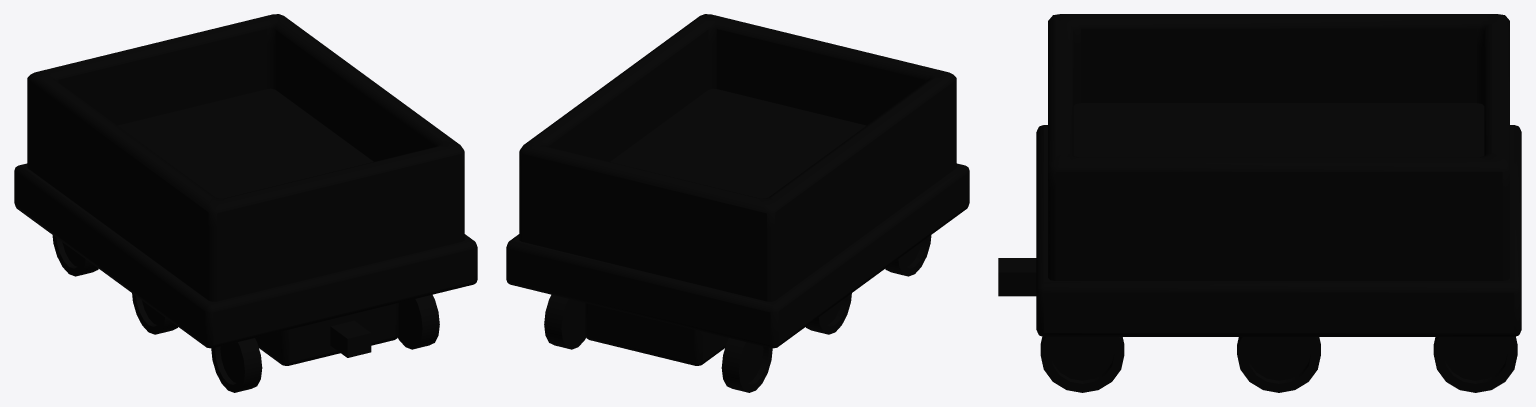
The model's file is Train-Truck.fbx.
The picture shows the model from 3 angles, left to right: view 1: azimuth 30°, elevation 25°; view 2: azimuth 150°, elevation 25°; view 3: azimuth 270°, elevation 25°; orthographic projection. The views are drawn at different scales.
Parts seen in each view (by area): view 1: Train-Truck; view 2: Train-Truck; view 3: Train-Truck.
Part boxes in pixels (bbox=[...]): Train-Truck: bbox=[14, 14, 477, 392]; Train-Truck: bbox=[506, 14, 969, 392]; Train-Truck: bbox=[998, 14, 1521, 392].
Size of the model in its own units: 0.8144 by 0.5699 by 1.1.
